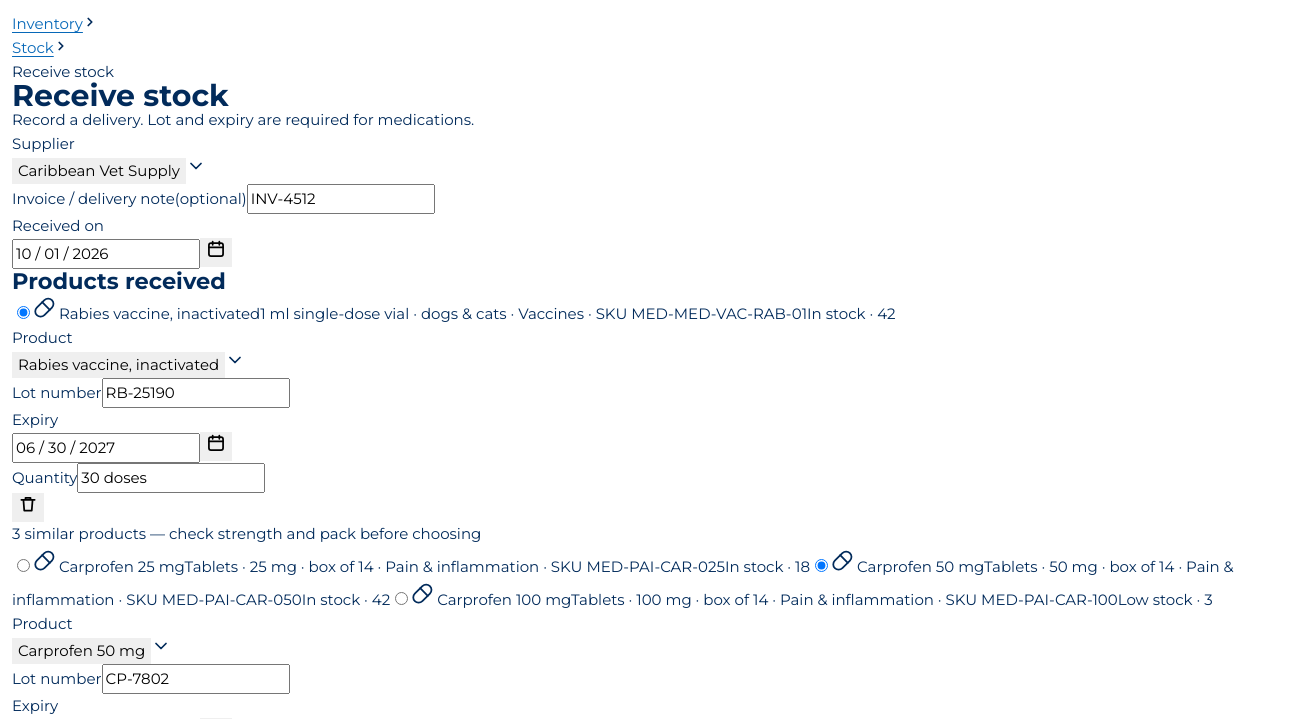
Scenario: ReceiveStock fields › changes the supplier, the invoice and the day received
Click the dropdown named "Supplier" at (99,171), box 12,158 -> 186,184
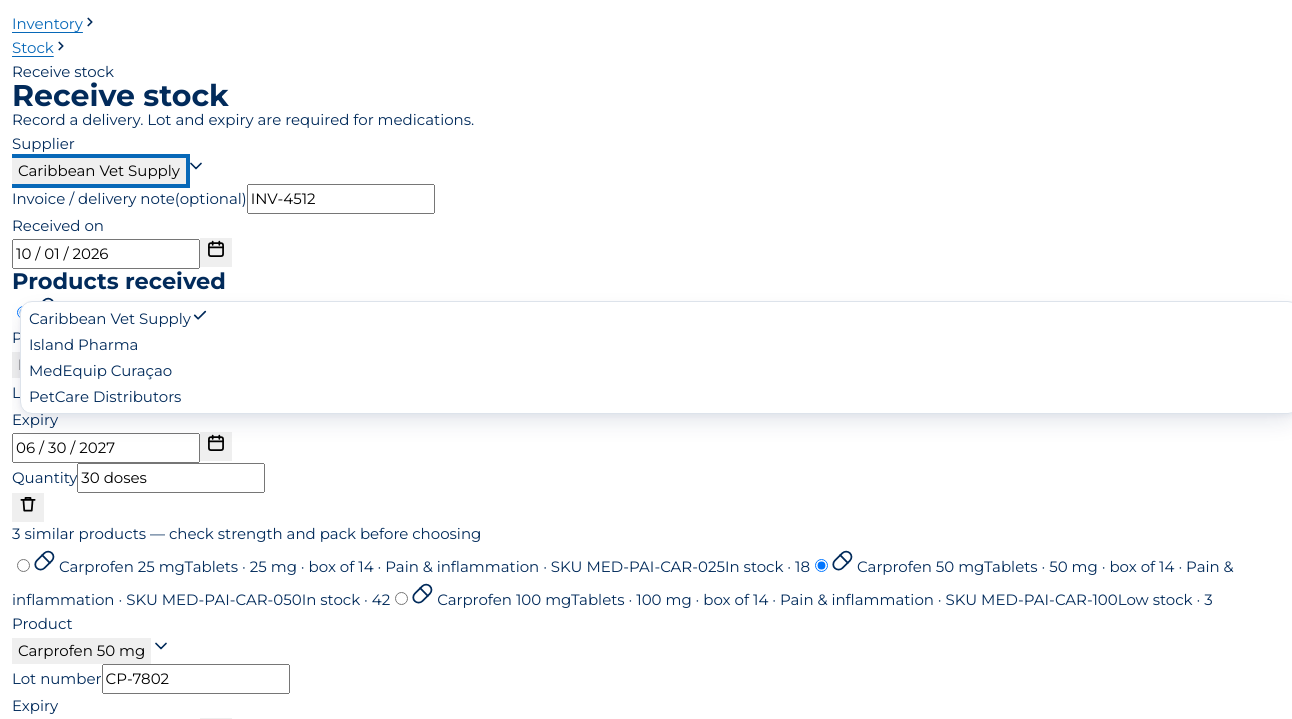
Click the option "Island Pharma" at (84,344), box 29,335 -> 138,354
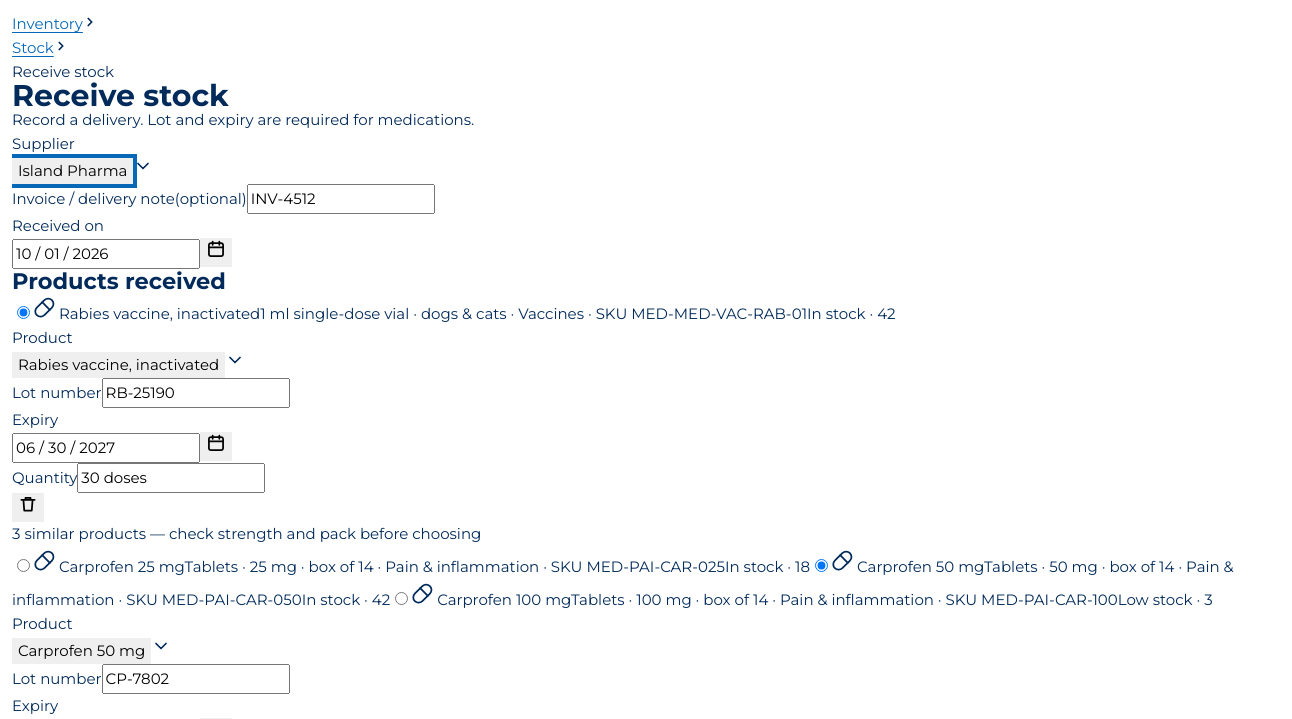
Check: the dropdown named "Supplier" reads "Island Pharma", box 12,158 -> 133,184
Replace the text in the field labelled "Invoice / delivery note(optional)" with "INV-9" at (341,199), box 247,184 -> 435,214
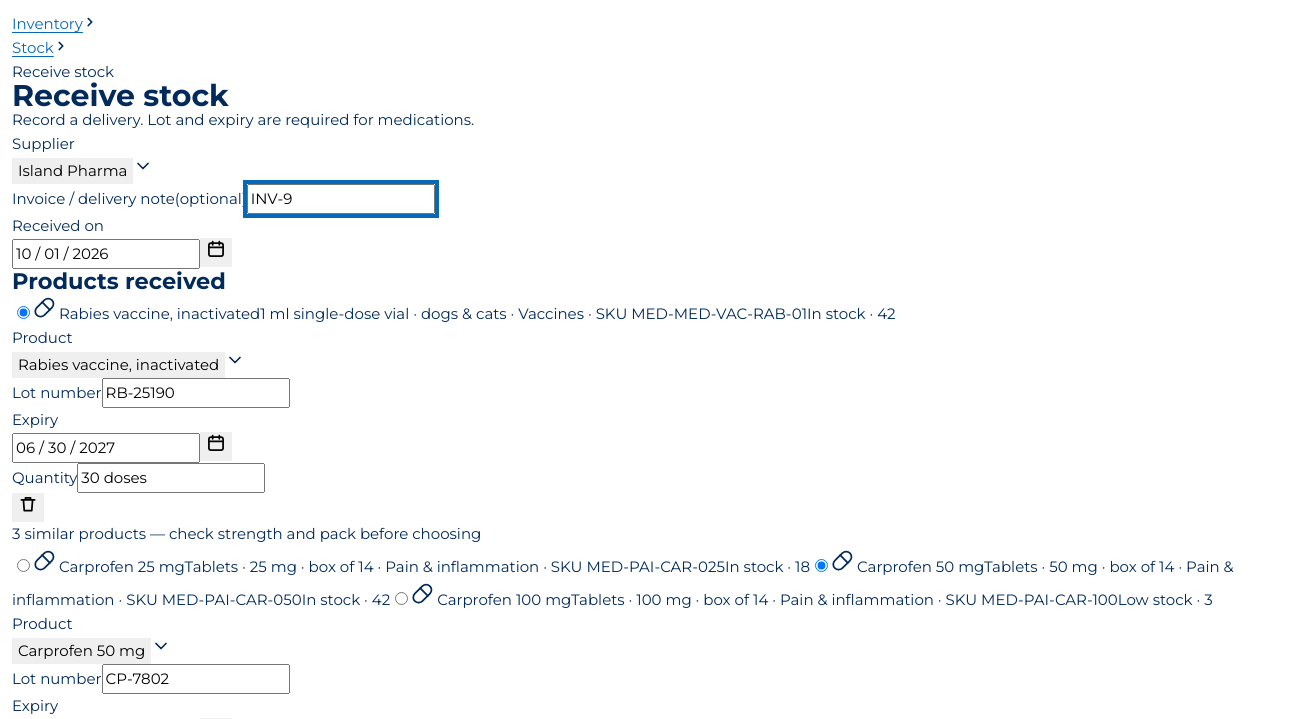
Replace the text in the field labelled "Received on" with "10152026" at (106,254), box 12,239 -> 200,269
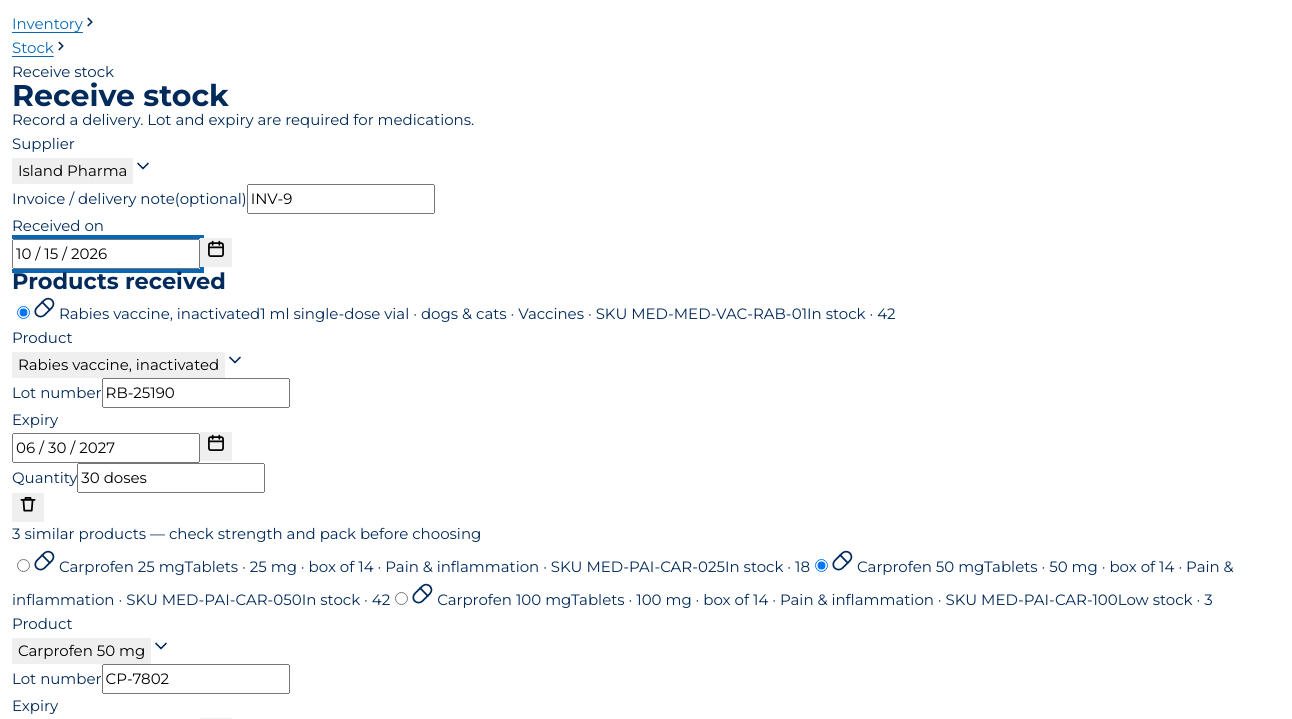
Check: the field labelled "Received on" holds "10 / 15 / 2026", box 12,239 -> 200,269
